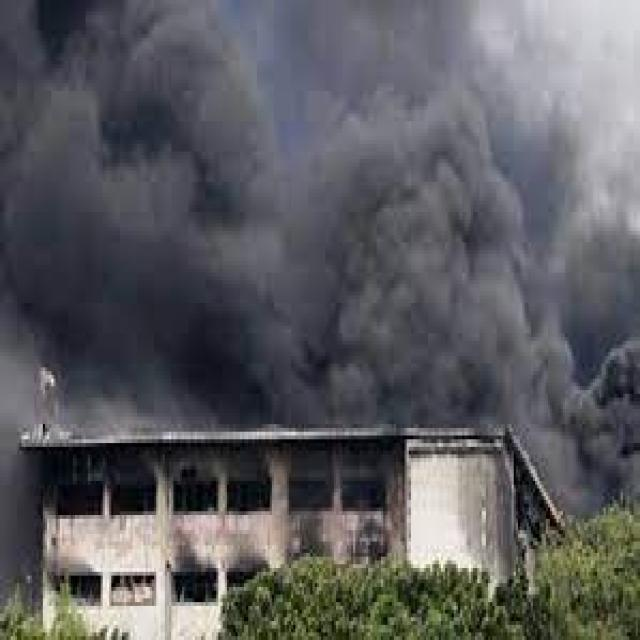Smoke: (3, 1, 640, 500)
